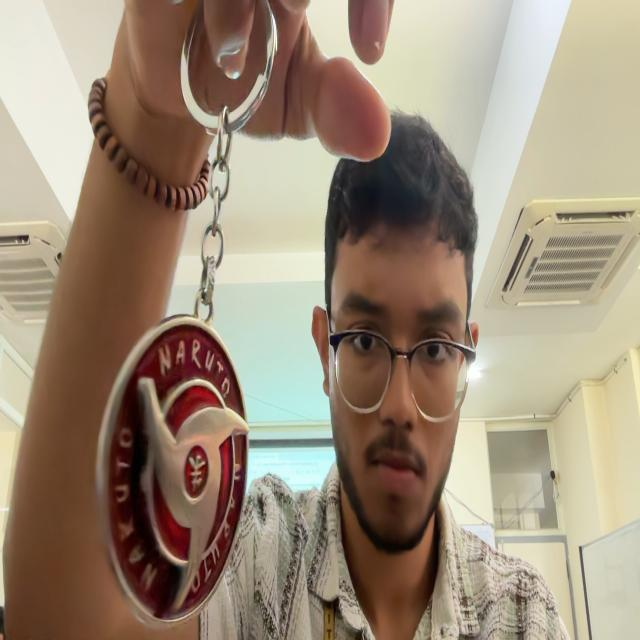dangerous: (96, 0, 278, 627)
